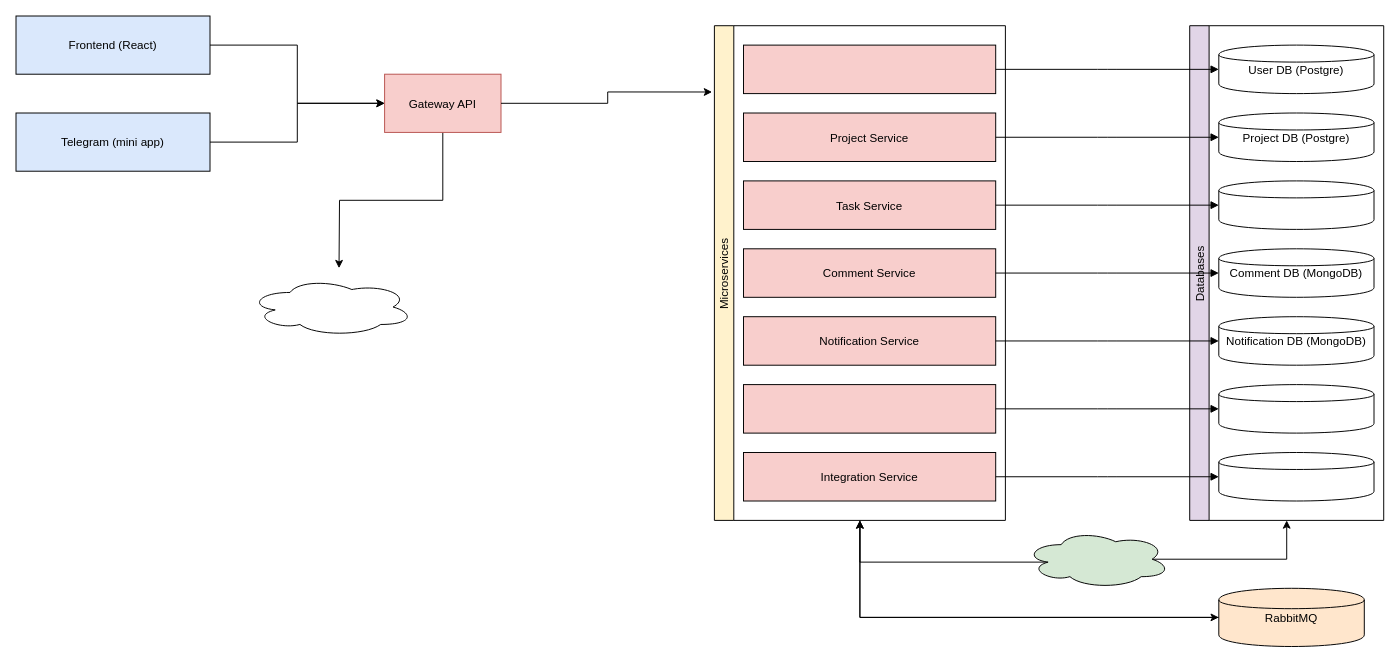
This 1400x663 diagram has some shape labels left out. Each missing label, with the centre of its shape:
"External APIs (Telegram, Google Docs, etc.)" goes at pixel 331 306.
"File DB (MongoDB)" goes at pixel 1296 408.
"File Storage Service" goes at pixel 869 408.
"Integration DB (MongoDB)" goes at pixel 1296 476.
"Redis" goes at pixel 1097 558.
"Task DB (Postgre)" goes at pixel 1296 204.
"User Service with Auth Service" goes at pixel 869 69.
